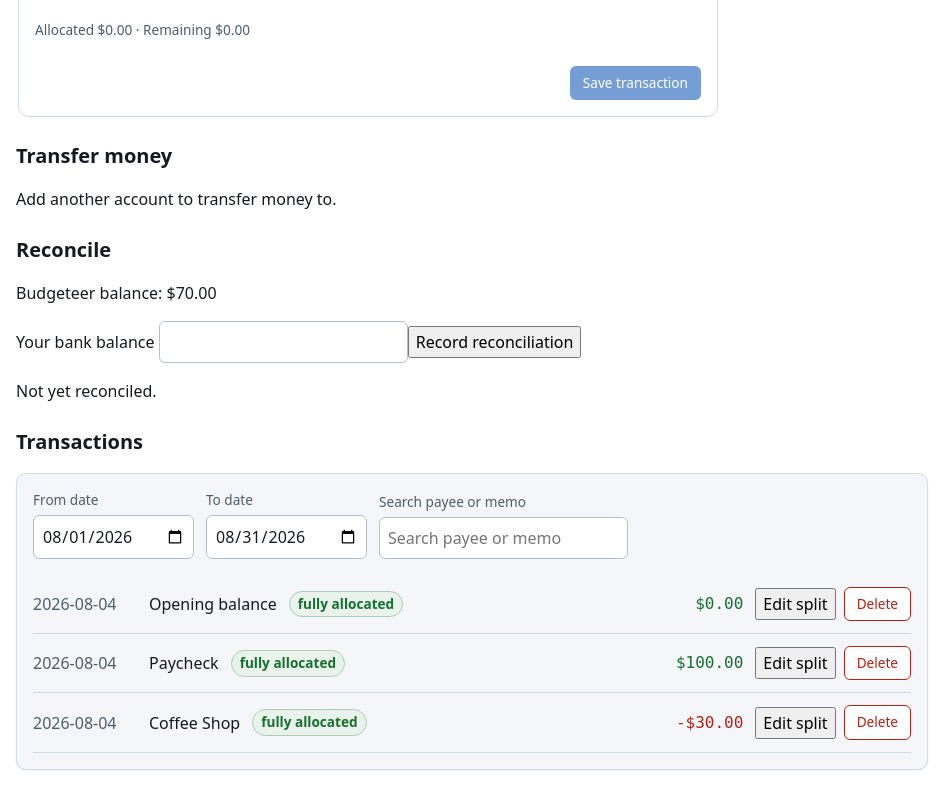
Test: AccountRegister (add transaction → allocate) › client-side search narrows the register by payee (R8)
(page scrolled)
Expected: the text "Paycheck" is shown, [149, 651, 219, 675]
Expected: the text "Coffee Shop" is shown, [149, 711, 240, 735]
// Searching narrows to the matching payee (case-insensitive).
Type "coffee" into the search field labelled "Search payee or memo".
click(504, 538); type("coffee")  # box [379, 517, 628, 559]
(page scrolled)
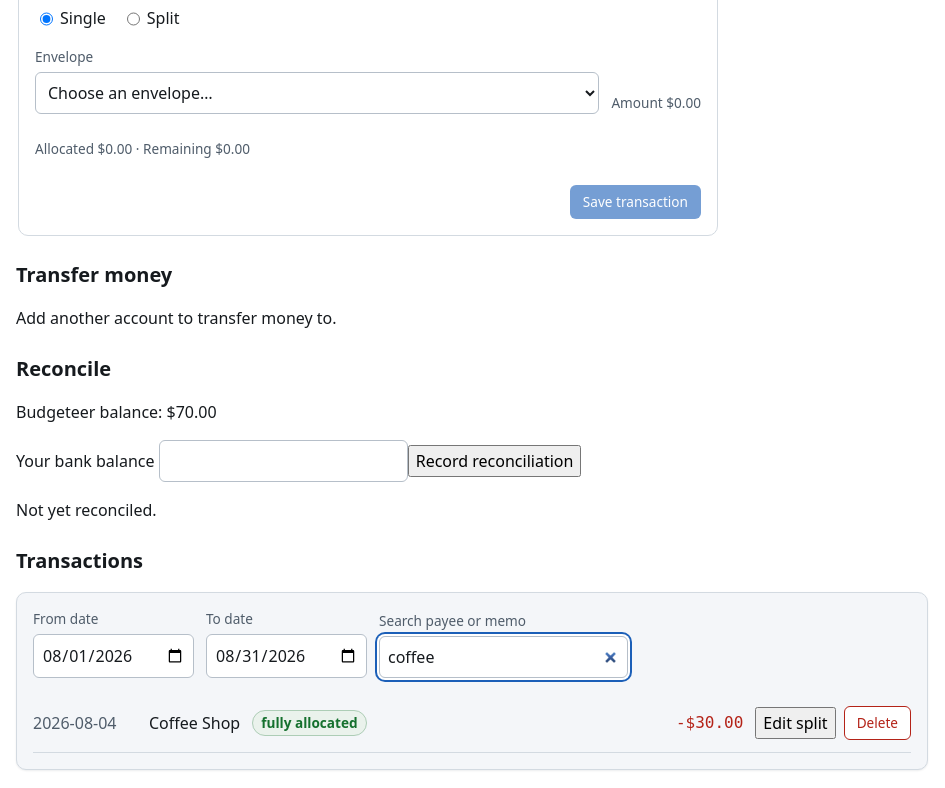
Expected: the text "Coffee Shop" is shown, [149, 711, 240, 735]
Expected: the text "Paycheck" is gone
